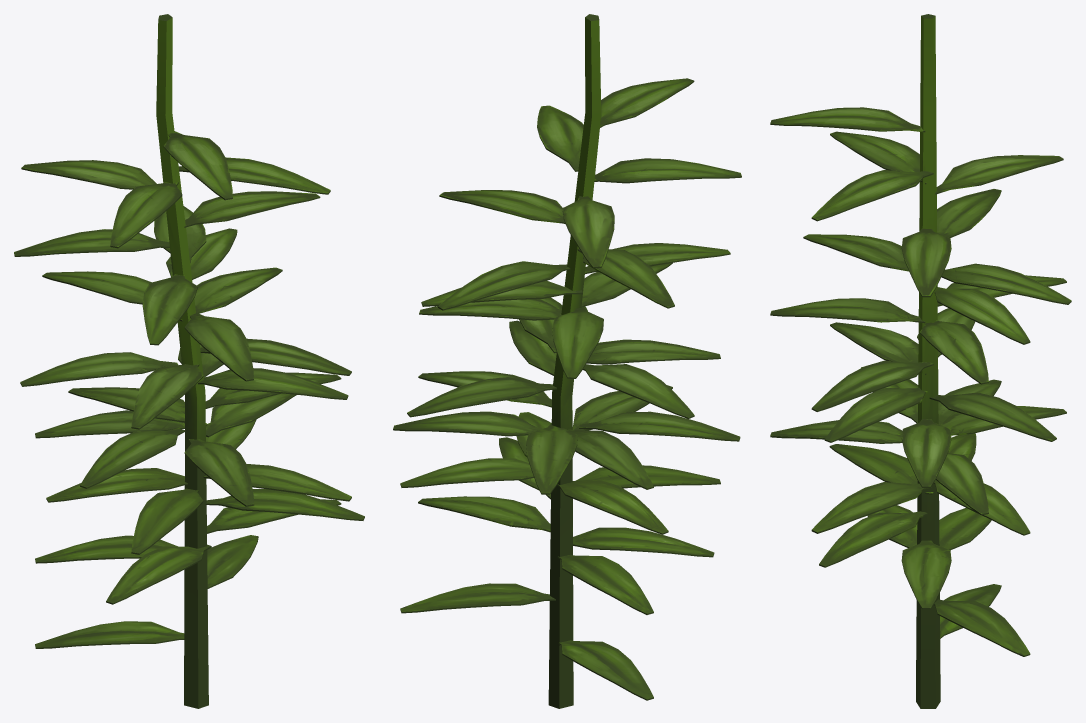
File: vines_paint_ready.obj
3 views of the same model, side by side, from view 1: azimuth 30°, elevation 25°; view 2: azimuth 150°, elevation 25°; view 3: azimuth 270°, elevation 25° (orthographic). The views are drawn at different scales.
Visible parts, largest first — view 1: group4_pCube9_initialShadingGroup; view 2: group4_pCube9_initialShadingGroup; view 3: group4_pCube9_initialShadingGroup.
Boxes of the visible parts, x1=… form: group4_pCube9_initialShadingGroup: x1=14, y1=14, x2=364, y2=708; group4_pCube9_initialShadingGroup: x1=393, y1=14, x2=741, y2=708; group4_pCube9_initialShadingGroup: x1=770, y1=14, x2=1071, y2=708.
Bounding box in the file's own units: 2.09 × 4.69 × 1.9.
Materials: 1 (1 with a texture image).
